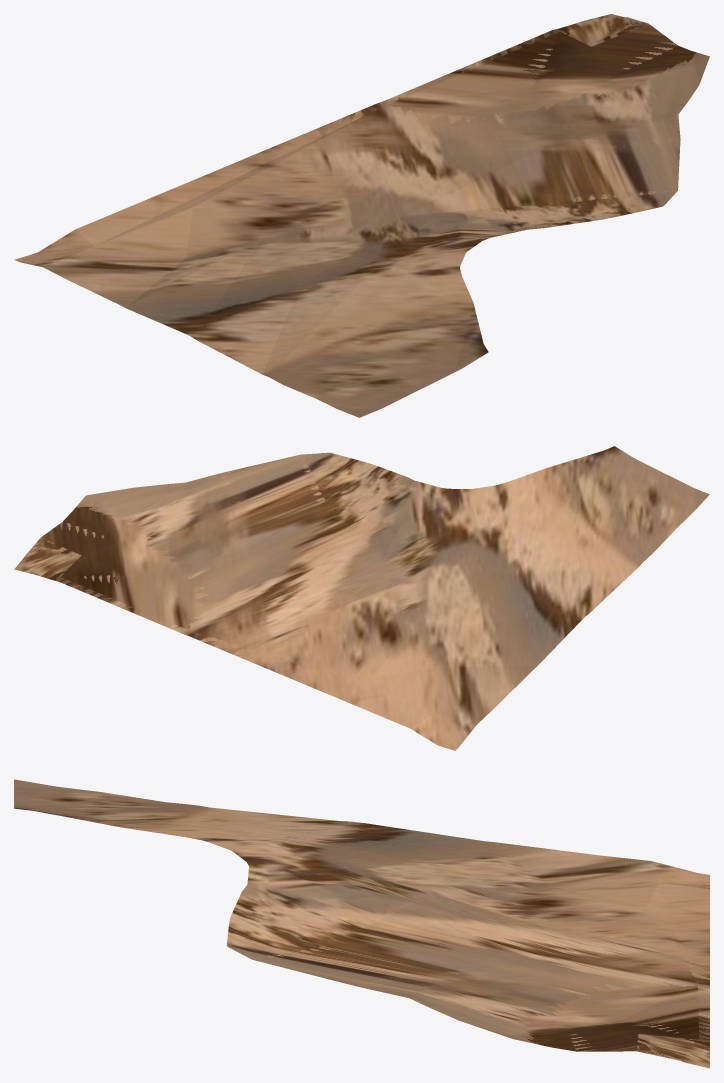
3 renders of one model, top to bottom at view 1: azimuth 30°, elevation 25°; view 2: azimuth 150°, elevation 25°; view 3: azimuth 270°, elevation 25°, orthographic. The views are drawn at different scales.
Bounding box in the file's own units: 1.04 × 0.2151 × 1.04.
2 materials, 2 textured.
